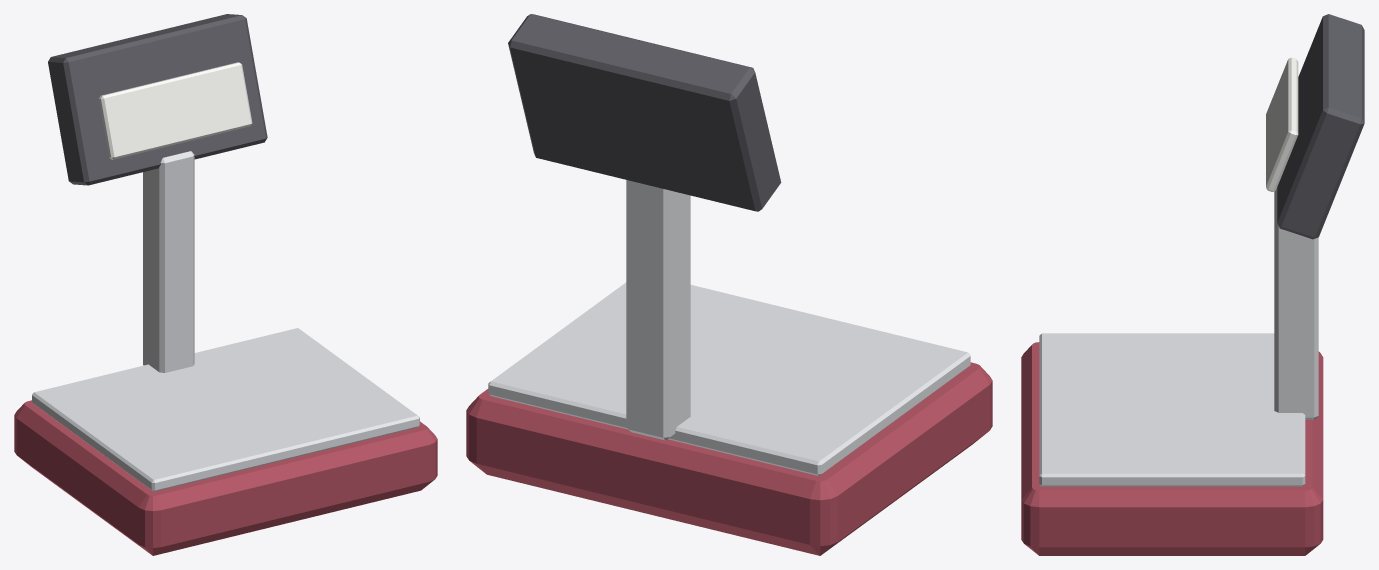
File: butchers-shop-and-deli-counter-bench-scale-2de84205__34455.glb
3 renders of one model, left to right at view 1: azimuth 30°, elevation 25°; view 2: azimuth 150°, elevation 25°; view 3: azimuth 270°, elevation 25°, orthographic. The views are drawn at different scales.
Visible parts, largest first — view 1: bench-scale; view 2: bench-scale; view 3: bench-scale.
Boxes of the visible parts, x1,y1,x2,y2 form: bench-scale: (14, 14, 437, 555); bench-scale: (466, 14, 992, 555); bench-scale: (1021, 14, 1364, 555).
Size of the model in its own units: 0.42 by 0.5272 by 0.3866.
